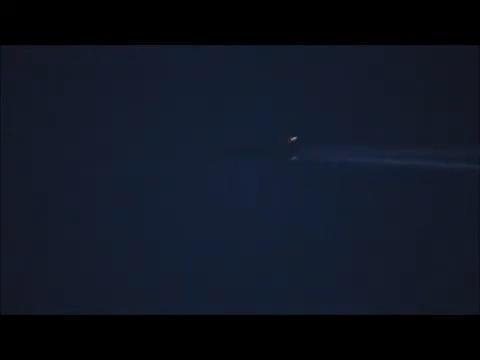Plane: (256, 125, 479, 187)
